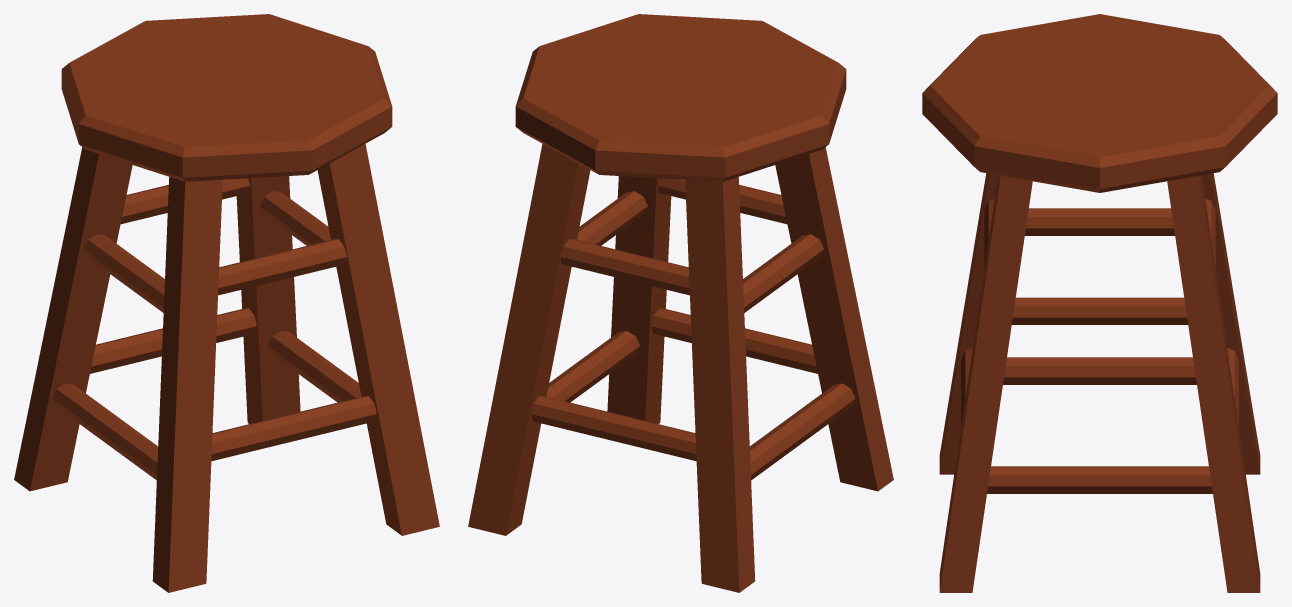
File: cLydFlVg-wI.glb
3 renders of one model, left to right at view 1: azimuth 30°, elevation 25°; view 2: azimuth 150°, elevation 25°; view 3: azimuth 270°, elevation 25°, orthographic. The views are drawn at different scales.
Parts seen in each view (by area): view 1: Node; view 2: Node; view 3: Node.
Part boxes in pixels (<box>): Node: <box>14,14,439,592</box>; Node: <box>468,14,893,592</box>; Node: <box>922,14,1277,592</box>.
Size of the model in its own units: 0.7338 by 1 by 0.7338.
